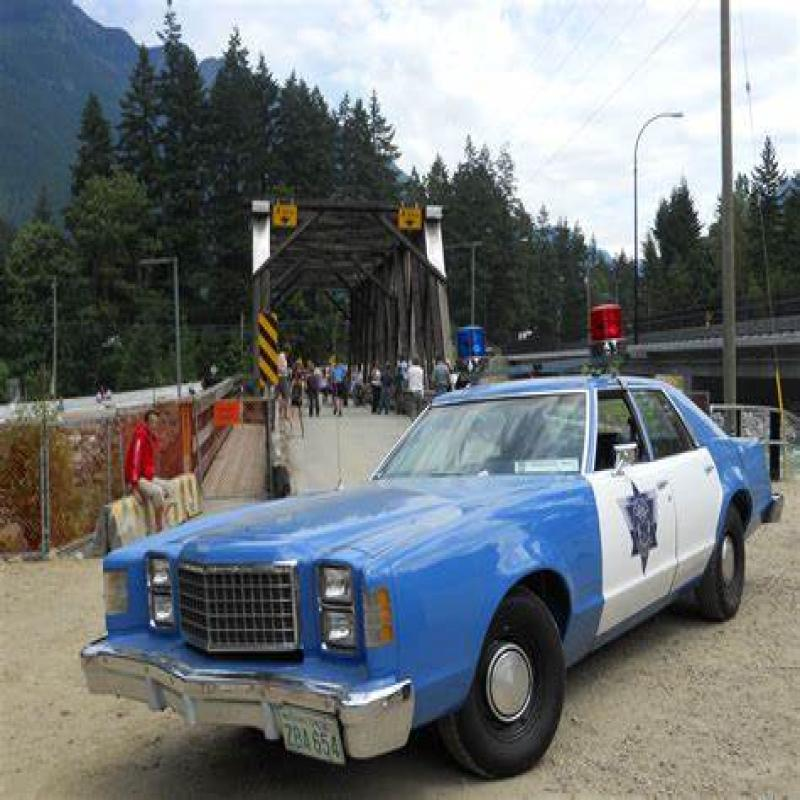AmbulanceSiren: (446, 304, 499, 388), (570, 295, 626, 372)
